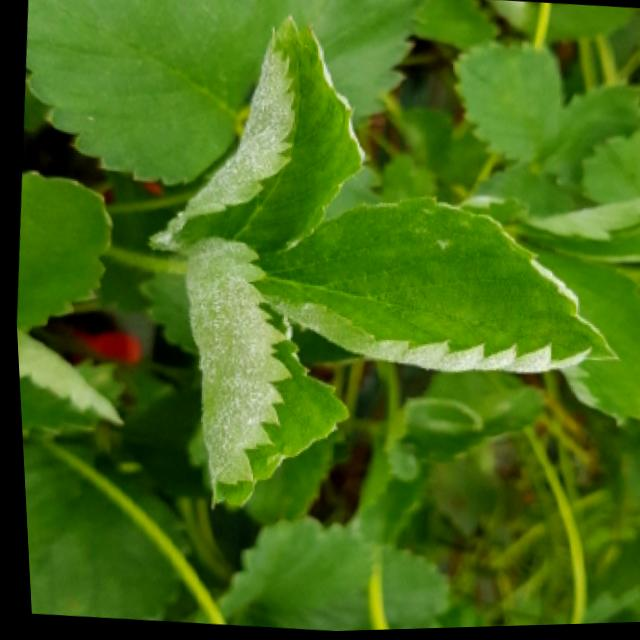Powdery Mildew Leaf: (243, 200, 617, 378), (142, 11, 363, 255), (180, 235, 347, 515), (516, 242, 640, 430), (500, 196, 640, 267)
